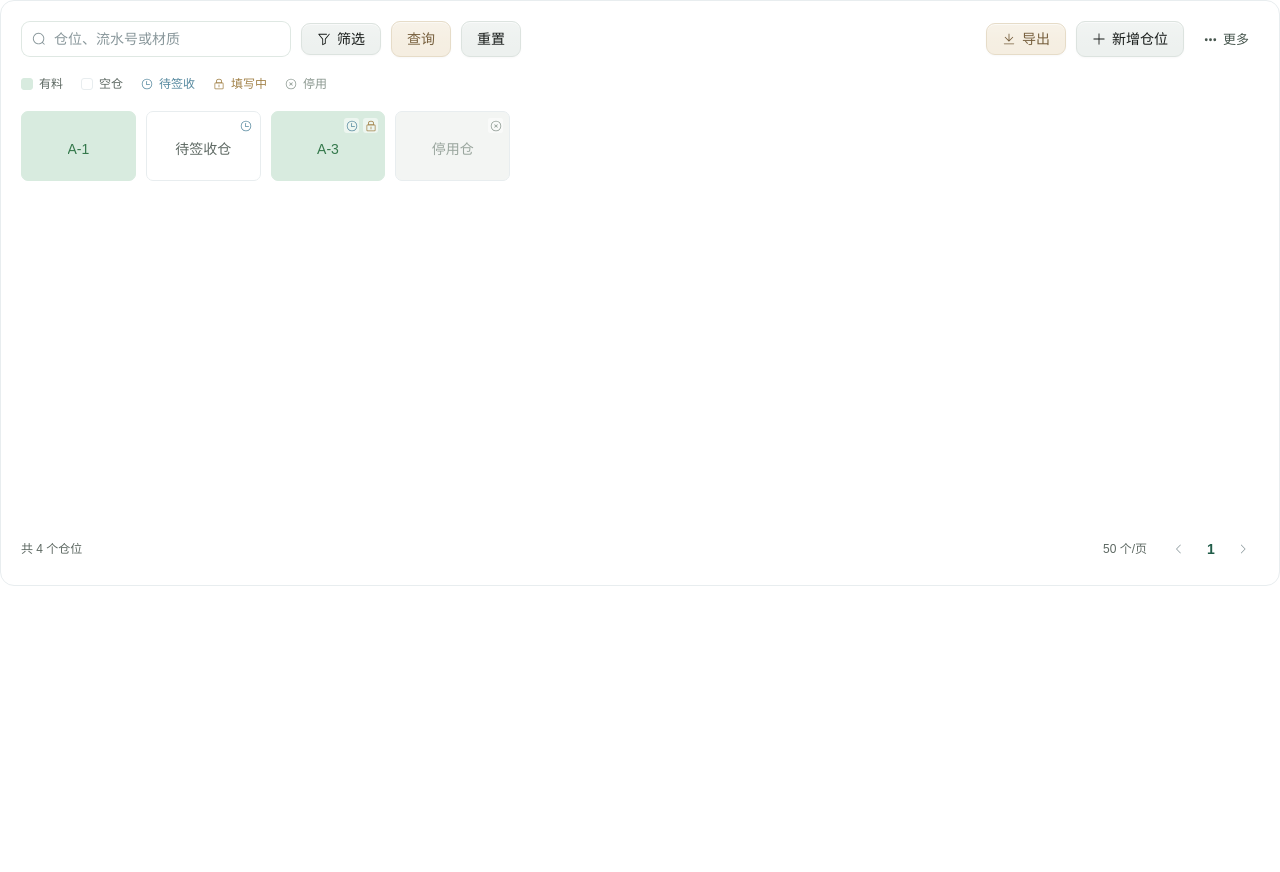
it: warehouse management › colors physical inventory and distinguishes pending, draft and disabled slots
Expected: the 2nd icon with class "draft" is shown, top-left (363, 118), bottom-right (378, 133)
Expected: the button with class "warehouse-slot" showing "停用仓" is enabled, top-left (395, 111), bottom-right (510, 181)
Click the button with class "warehouse-slot" showing "待签收仓": (203, 146) top-left (146, 111), bottom-right (261, 181)
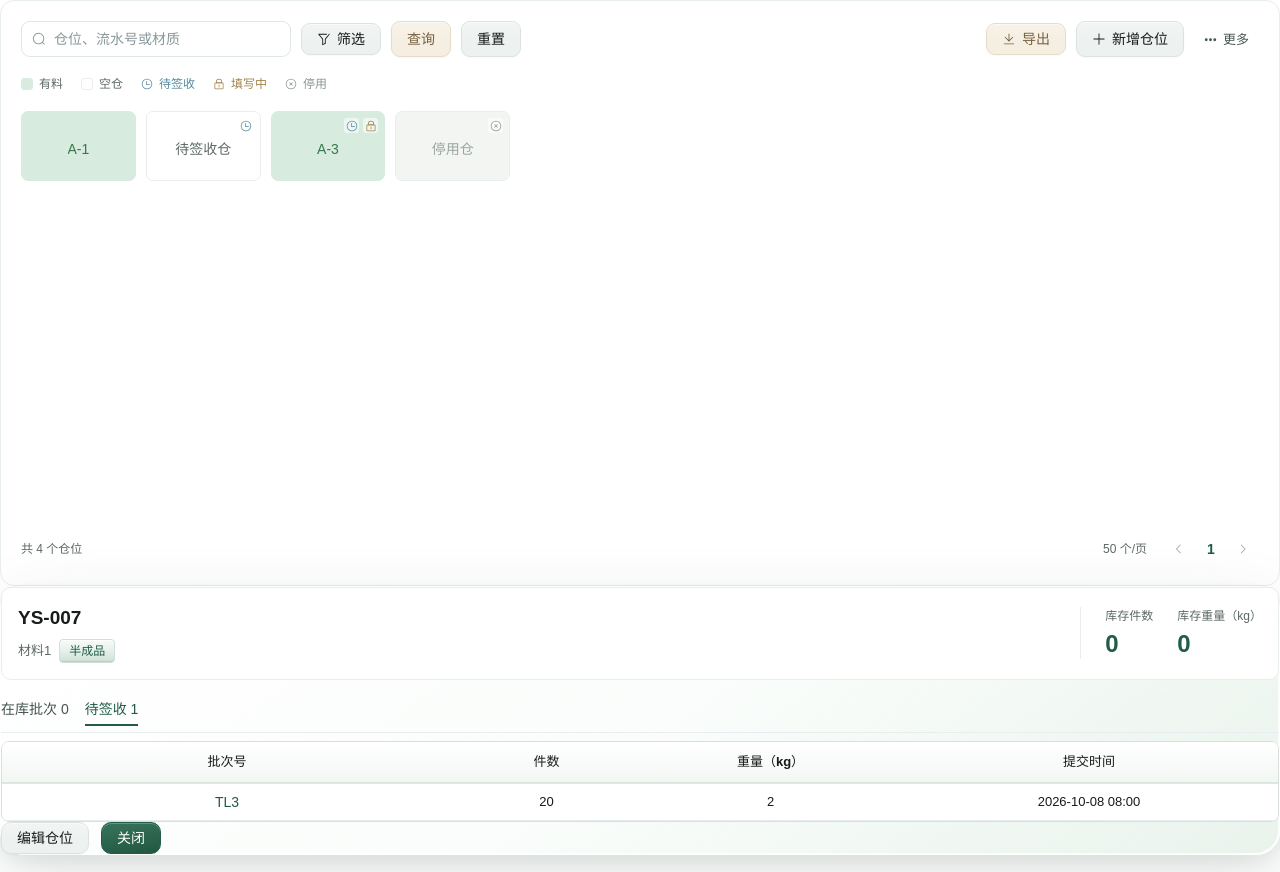
Expected: the button "待签收 1" is shown, top-left (85, 692), bottom-right (138, 726)
Expected: the element with class "warehouse-detail-totals" reads "库存件数 0 库存重量（kg） 0", top-left (1080, 607), bottom-right (1262, 659)
Expected: the text "提交时间" is shown, top-left (1063, 754), bottom-right (1115, 769)
Click the button "关闭": (131, 838) top-left (101, 822), bottom-right (161, 854)
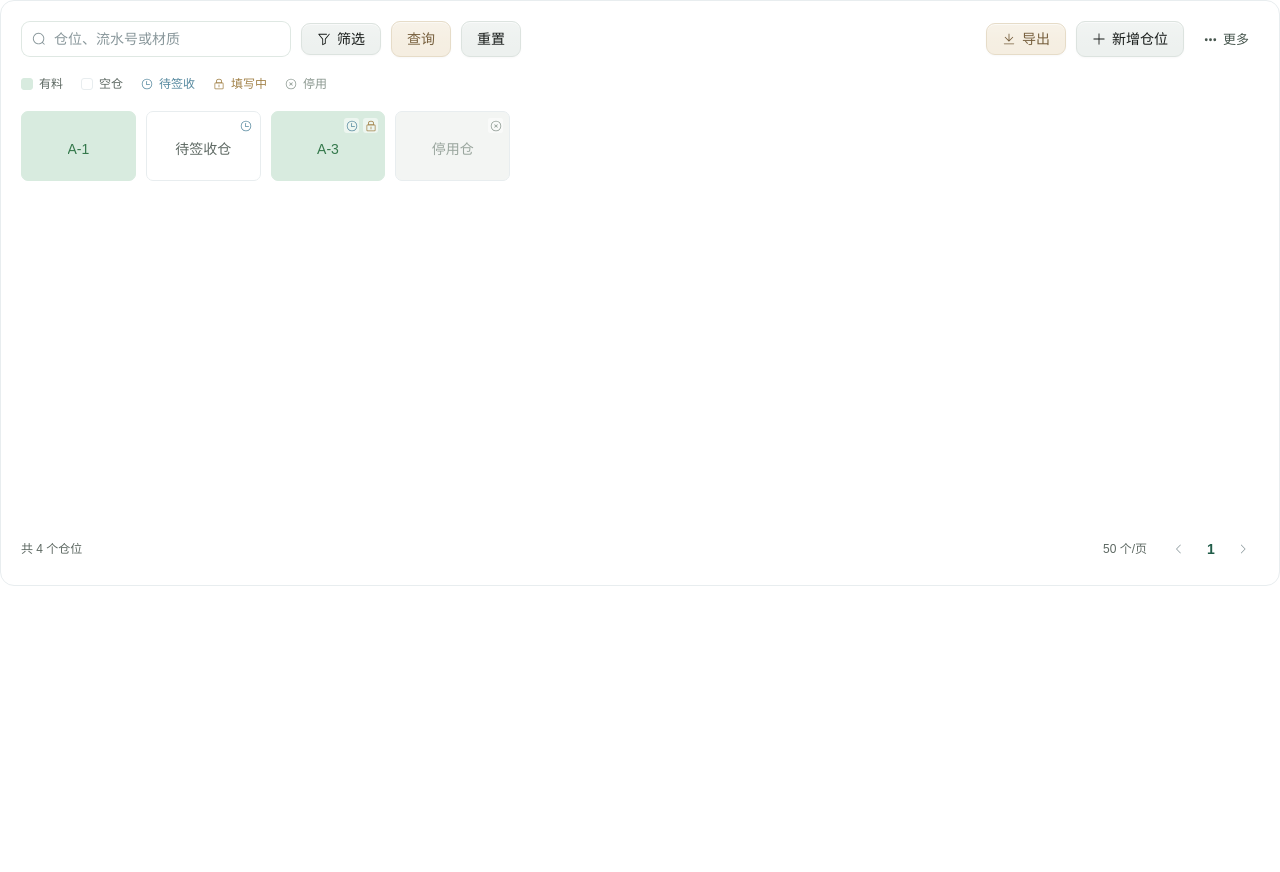
Click the button with class "warehouse-slot" showing "A-3": (328, 146) top-left (271, 111), bottom-right (385, 181)
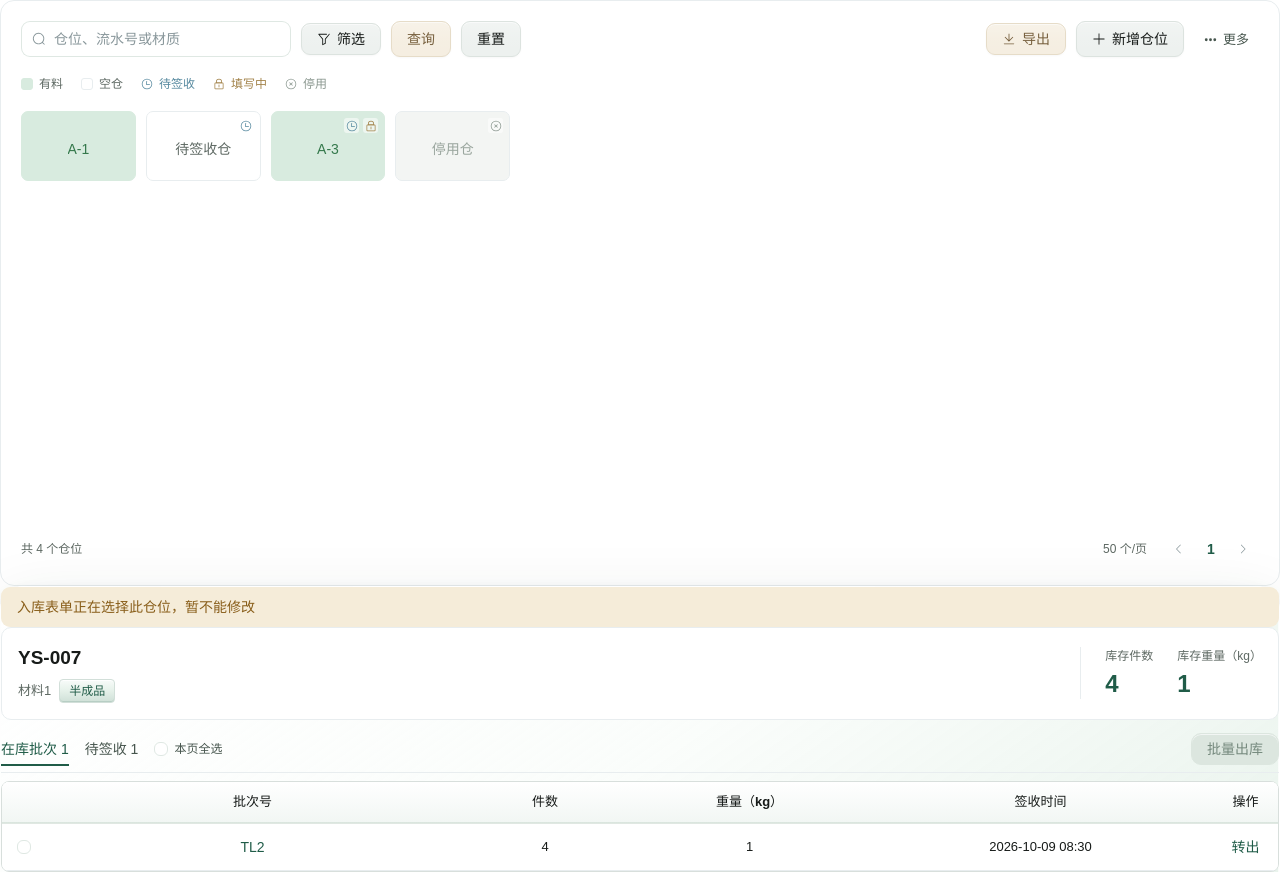
Expected: the element with class "warehouse-detail-totals" reads "库存件数 4 库存重量（kg） 1", top-left (1080, 647), bottom-right (1262, 699)
